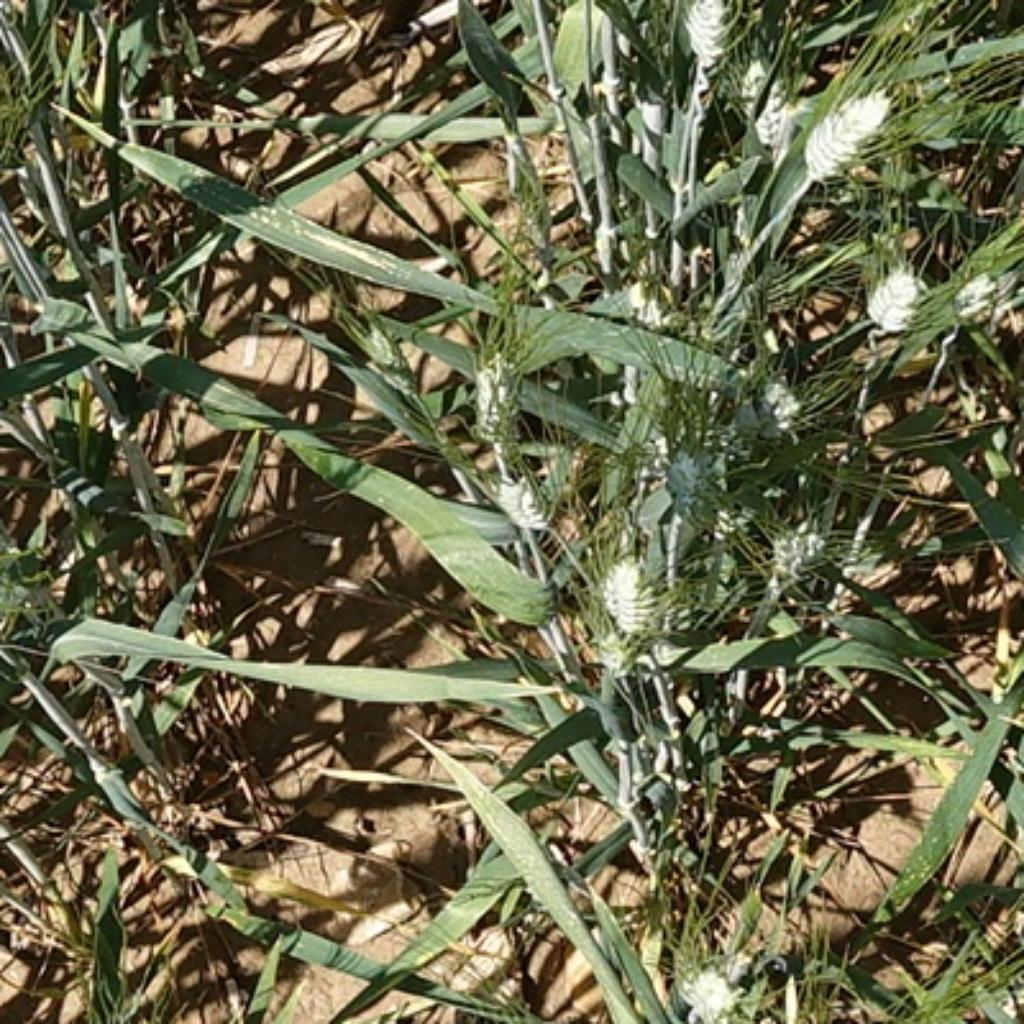0-0: (794, 77, 905, 187), (716, 238, 816, 322), (460, 340, 535, 450), (949, 253, 1024, 350), (729, 56, 798, 158), (857, 245, 929, 330), (760, 506, 837, 583), (481, 453, 558, 529), (668, 955, 746, 1024), (663, 2, 737, 74), (609, 560, 667, 644), (576, 627, 647, 693), (669, 431, 725, 514), (751, 373, 820, 440)
